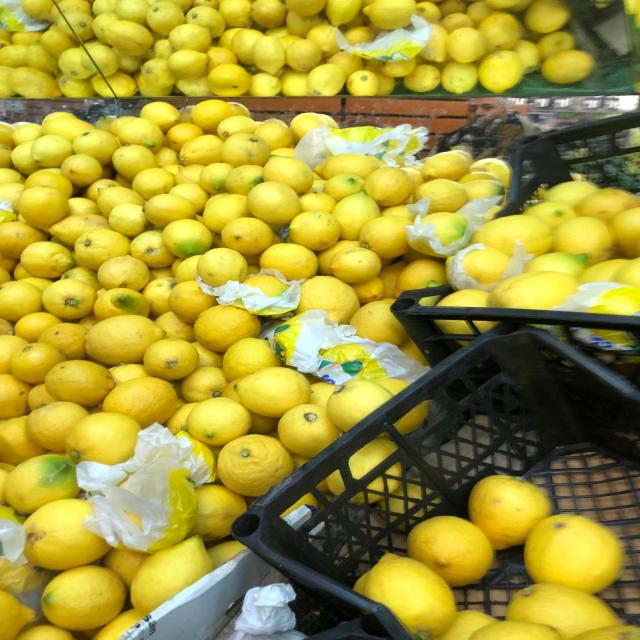lemon: (352, 547, 460, 640), (34, 563, 130, 634), (211, 432, 300, 499), (63, 407, 148, 469), (231, 365, 317, 420)
